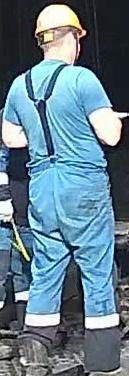helmet: (34, 3, 83, 37)
